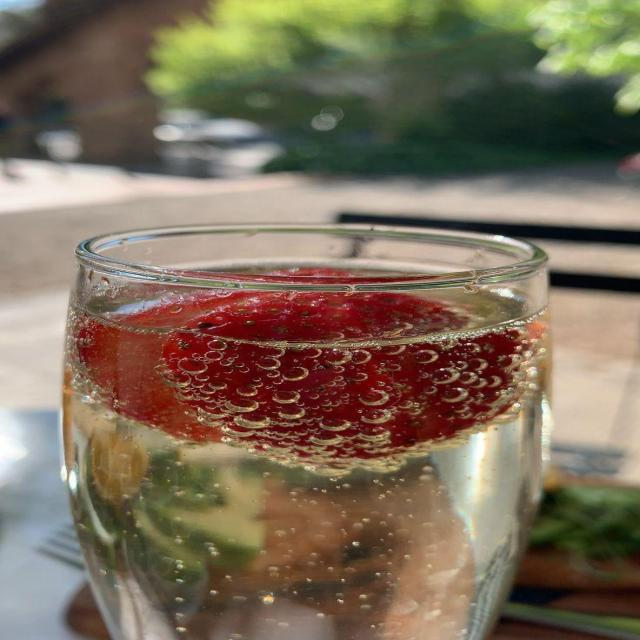glass-normal: (56, 220, 558, 640)
